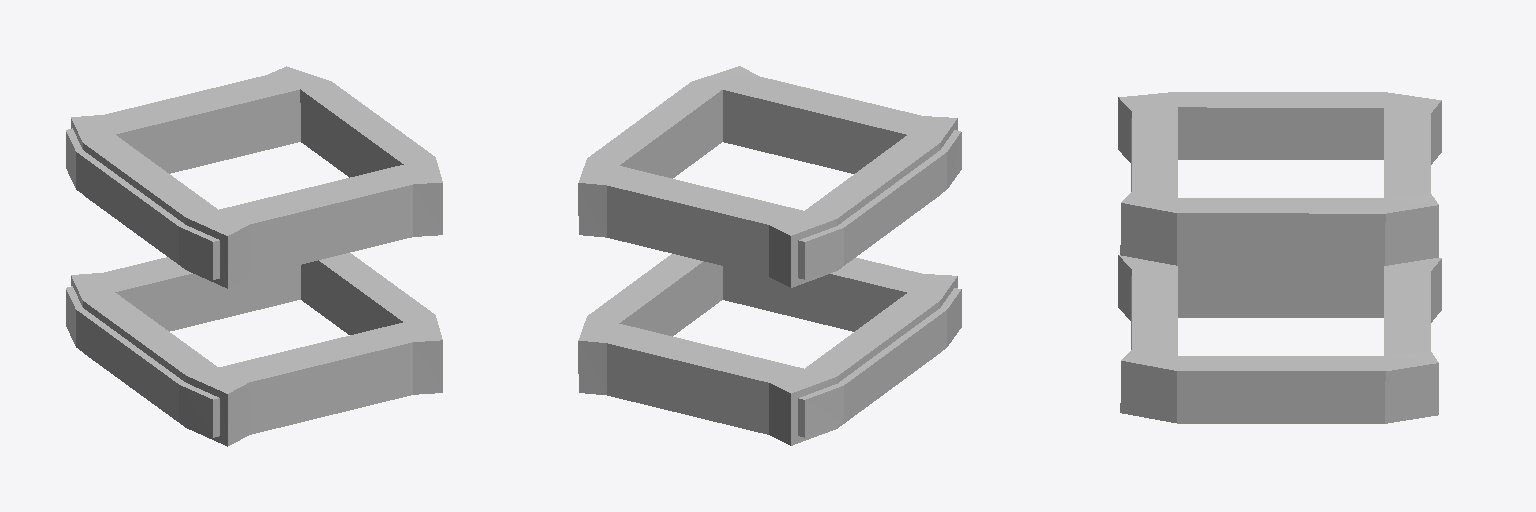
The model's file is gesetz_handle.obj.
3 views of the same model, side by side, from view 1: azimuth 30°, elevation 25°; view 2: azimuth 150°, elevation 25°; view 3: azimuth 270°, elevation 25° (orthographic).
Visible parts, largest first — view 1: Gesetz_gesetz; view 2: Gesetz_gesetz; view 3: Gesetz_gesetz.
Boxes of the visible parts, x1=… form: Gesetz_gesetz: x1=66, y1=66, x2=442, y2=446; Gesetz_gesetz: x1=578, y1=66, x2=961, y2=445; Gesetz_gesetz: x1=1118, y1=92, x2=1441, y2=423.
Bounding box in the file's own units: 0.3489 × 0.2747 × 0.3817.